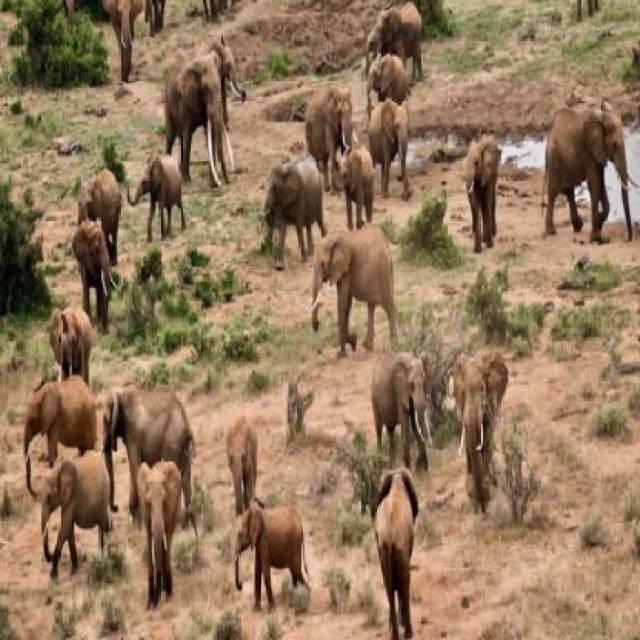elephant: (542, 92, 638, 259), (30, 444, 124, 584), (298, 231, 404, 355), (88, 366, 224, 457), (450, 344, 516, 510), (362, 462, 418, 635), (125, 436, 183, 590), (233, 501, 319, 604), (155, 47, 227, 165), (369, 348, 433, 458), (262, 154, 326, 261), (9, 371, 97, 446), (209, 408, 269, 509), (127, 149, 190, 237), (41, 275, 96, 371), (75, 208, 122, 315), (366, 101, 420, 194), (307, 72, 365, 158), (454, 139, 498, 250), (359, 10, 430, 76), (320, 152, 377, 226), (76, 138, 121, 228), (212, 25, 250, 104), (368, 53, 410, 124)
